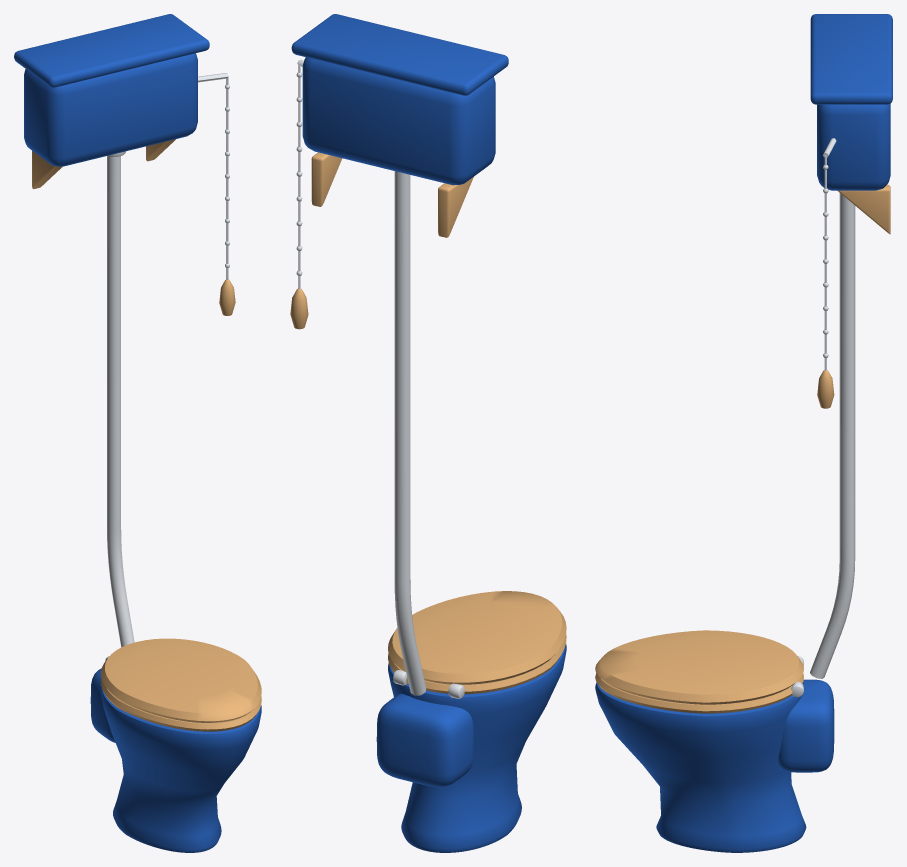
The model's file is vaso_retro_caixa_alta_azul.glb.
The picture shows the model from 3 angles, left to right: view 1: azimuth 30°, elevation 25°; view 2: azimuth 150°, elevation 25°; view 3: azimuth 270°, elevation 25°; orthographic projection. The views are drawn at different scales.
Visible parts, largest first — view 1: vaso_retro_caixa_alta_azul, tampa, assento; view 2: vaso_retro_caixa_alta_azul, tampa, assento; view 3: vaso_retro_caixa_alta_azul, tampa, assento.
Part boxes in pixels (x1=…): vaso_retro_caixa_alta_azul: x1=14, y1=14, x2=261, y2=852; tampa: x1=100, y1=638, x2=261, y2=722; assento: x1=100, y1=678, x2=261, y2=731; vaso_retro_caixa_alta_azul: x1=290, y1=14, x2=566, y2=852; tampa: x1=388, y1=591, x2=566, y2=684; assento: x1=388, y1=634, x2=566, y2=694; vaso_retro_caixa_alta_azul: x1=595, y1=14, x2=892, y2=852; tampa: x1=595, y1=630, x2=803, y2=704; assento: x1=595, y1=673, x2=803, y2=713.
Size of the model in its own units: 0.535 by 1.99 by 0.688.
1 material, 1 textured.
